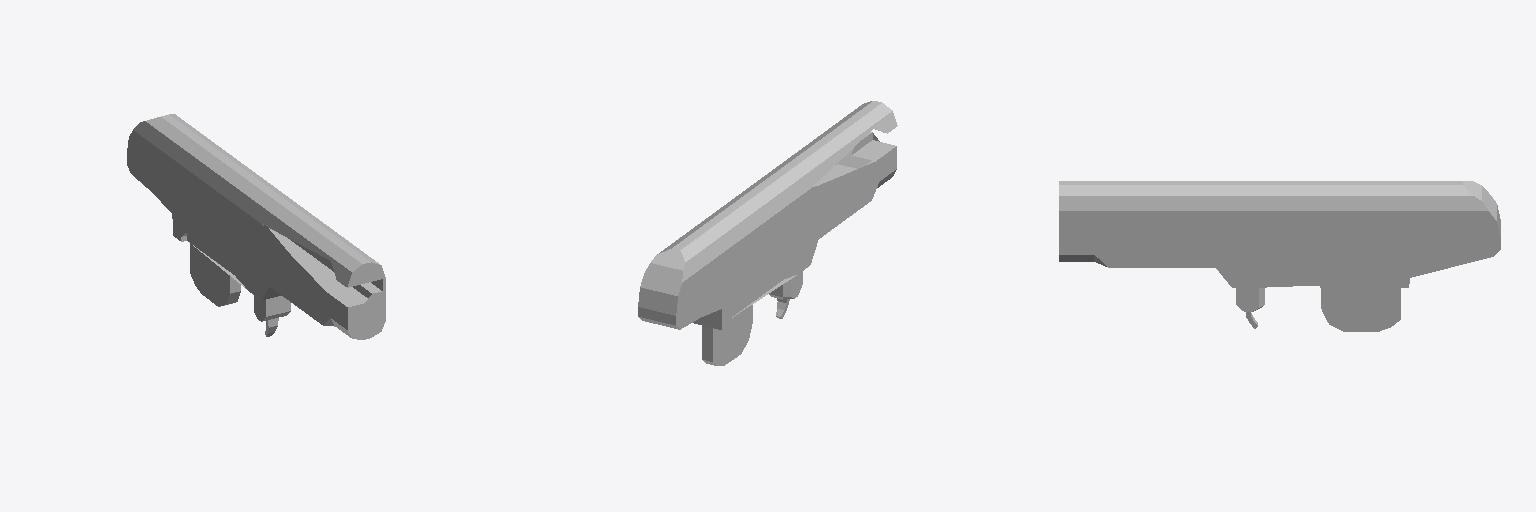
File: Reciever.obj
3 renders of one model, left to right at view 1: azimuth 30°, elevation 25°; view 2: azimuth 150°, elevation 25°; view 3: azimuth 270°, elevation 25°, orthographic.
Parts seen in each view (by area): view 1: Cube.001; view 2: Cube.001; view 3: Cube.001.
Part boxes in pixels (bbox=[...]): Cube.001: bbox=[127, 114, 385, 339]; Cube.001: bbox=[638, 101, 897, 365]; Cube.001: bbox=[1059, 181, 1500, 331].
Size of the model in its own units: 0.1156 by 0.4172 by 1.14.